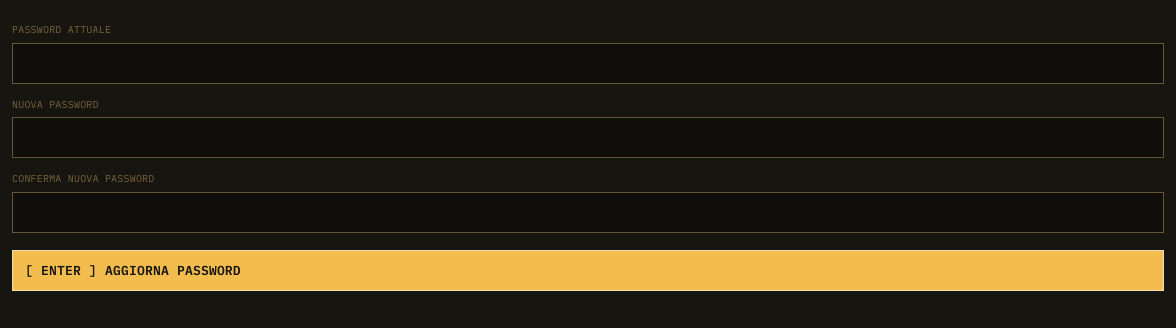
Test: ChangePasswordForm › segnala quando la conferma non coincide
Type "provvisoria" into the password field labelled "password attuale" at (588, 63), box [12,42,1164,84]
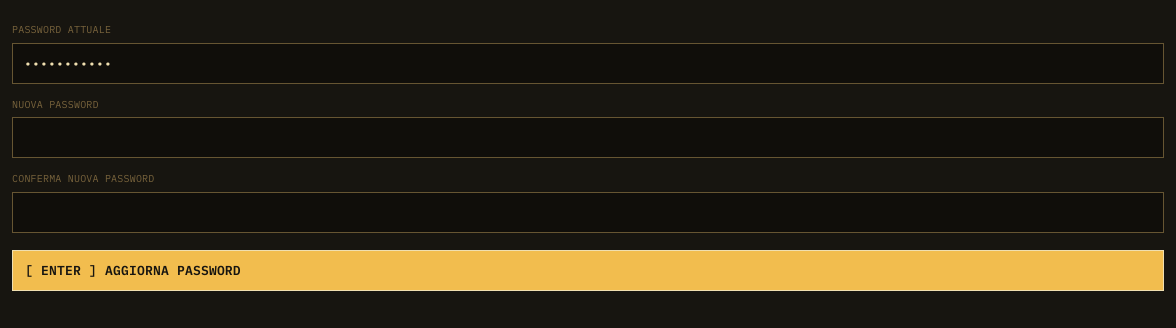
Type "nuovaPassword1" into the password field labelled "nuova password" at (588, 138), box [12,117,1164,158]
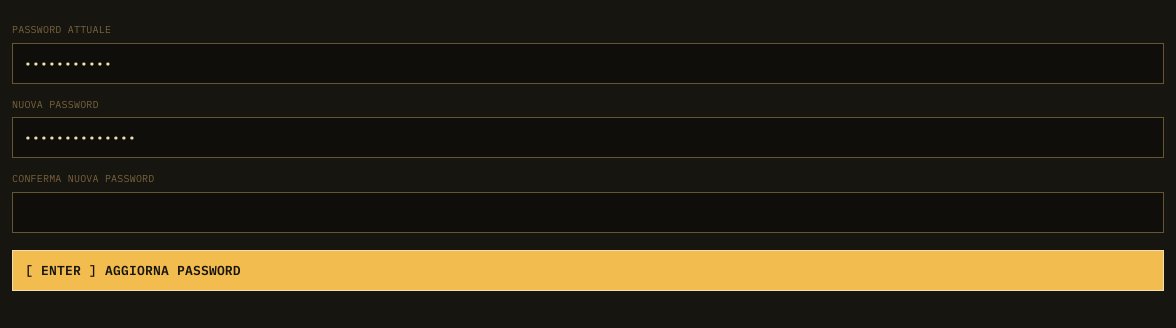
Type "diversa" into the password field labelled "conferma nuova password" at (588, 212), box [12,192,1164,232]
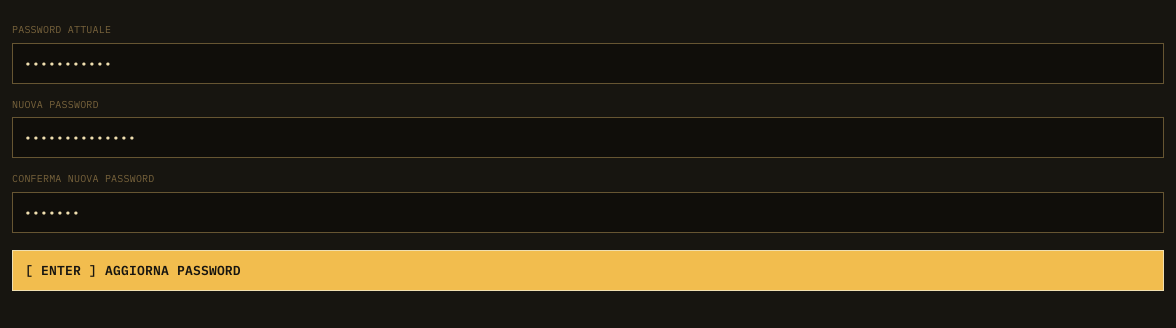
Submit the form
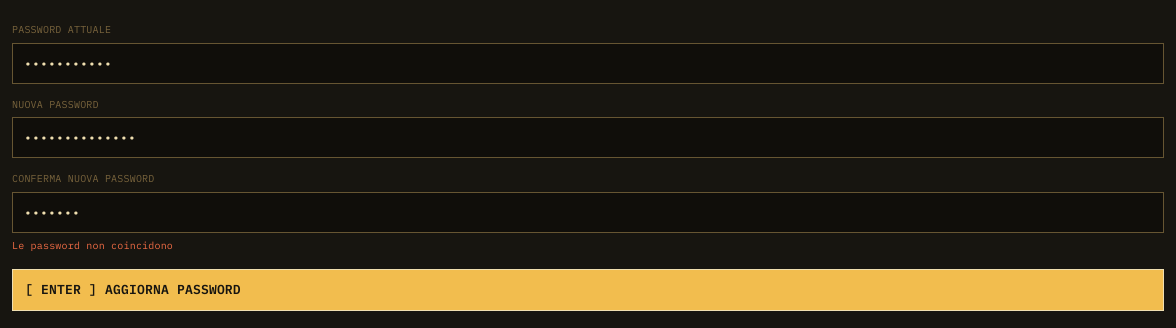
Result: the text "Le password non coincidono" is shown at [12,238,173,252]
